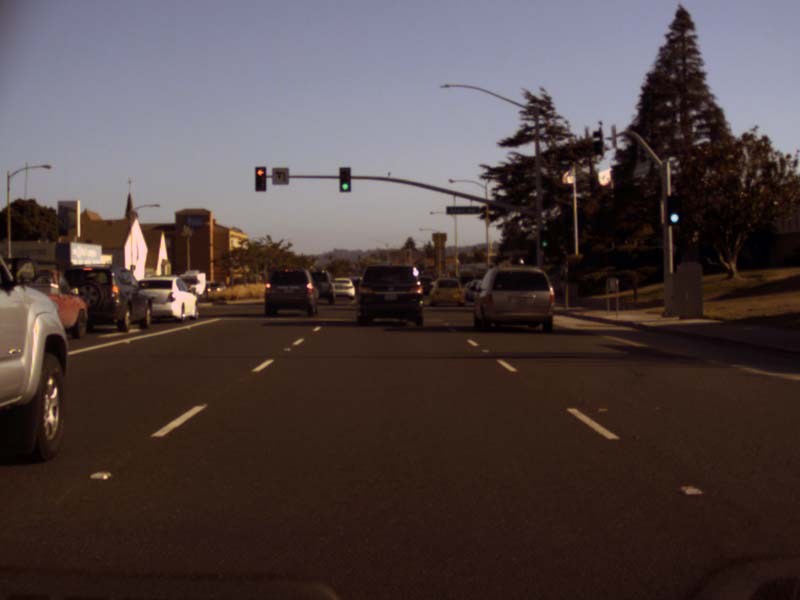Green: (666, 196, 681, 224), (339, 166, 350, 191), (540, 230, 549, 249)
Red: (254, 166, 266, 191)
